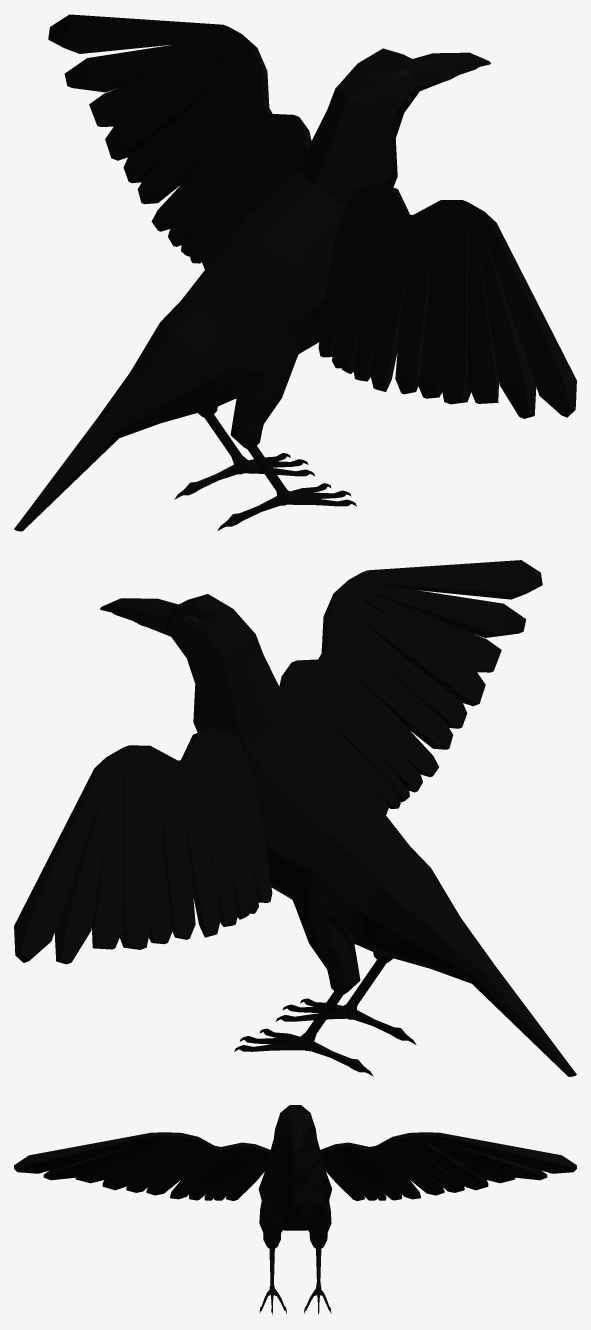
File: Crow1.obj
3 renders of one model, top to bottom at view 1: azimuth 30°, elevation 25°; view 2: azimuth 150°, elevation 25°; view 3: azimuth 270°, elevation 25°, orthographic. The views are drawn at different scales.
Visible parts, largest first — view 1: Cylinder; view 2: Cylinder; view 3: Cylinder.
Part boxes in pixels (x1,y1,x2,y2): Cylinder: [14, 14, 576, 531]; Cylinder: [14, 560, 576, 1076]; Cylinder: [14, 1105, 576, 1315].
Bounding box in the file's own units: 0.7046 × 0.5854 × 1.33.
2 materials, 1 textured.
